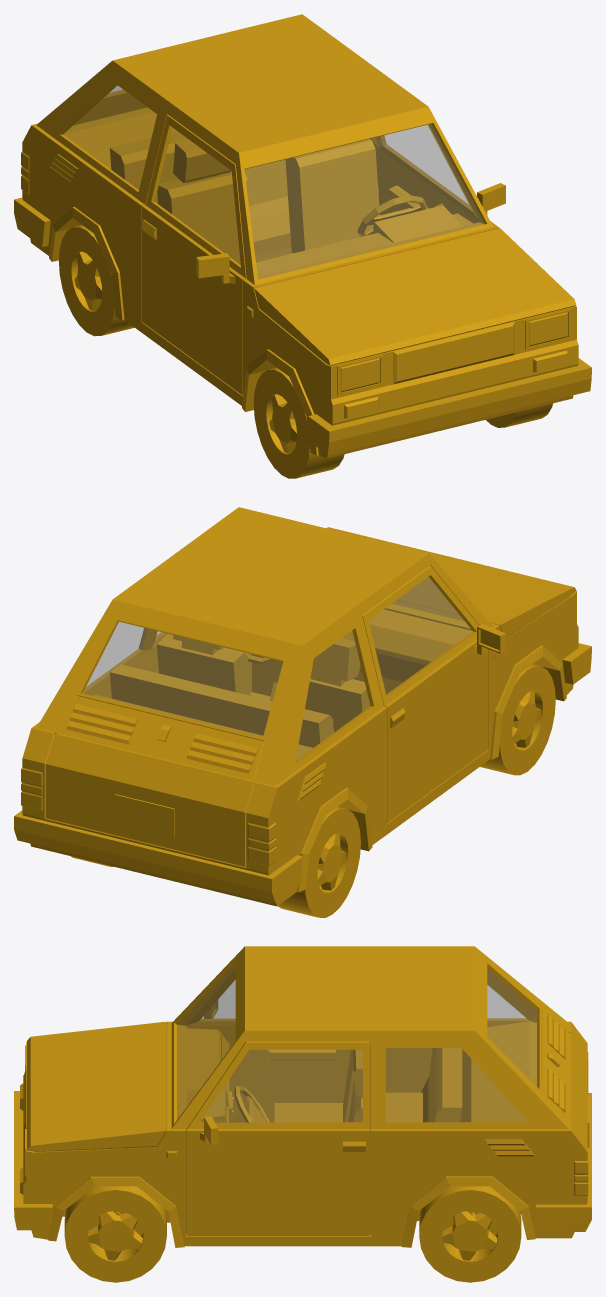
Rendered from YS_Vehicle.glb.
The picture shows the model from 3 angles, top to bottom: view 1: azimuth 30°, elevation 25°; view 2: azimuth 150°, elevation 25°; view 3: azimuth 270°, elevation 25°; orthographic projection. The views are drawn at different scales.
Parts seen in each view (by area): view 1: MICRO_CAR, WINDOWS.003, INTERIOR, DOOR L.007, GLASS.002, WHEEL_R1.001, WHEEL_R2.001, DOOR R.008, GLASS.001, WHEEL_L1.001; view 2: MICRO_CAR, WINDOWS.003, INTERIOR, DOOR L.007, GLASS.002, WHEEL_R2.001, WHEEL_R1.001; view 3: MICRO_CAR, DOOR R.008, WINDOWS.003, INTERIOR, GLASS.001, WHEEL_L1.001, WHEEL_L2.001, DOOR L.007, GLASS.002.
Part boxes in pixels (<box>): MICRO_CAR: <box>14,14,591,458</box>; WINDOWS.003: <box>63,85,484,279</box>; INTERIOR: <box>110,131,472,276</box>; DOOR L.007: <box>141,115,246,395</box>; GLASS.002: <box>155,128,240,264</box>; WHEEL_R1.001: <box>253,367,344,478</box>; WHEEL_R2.001: <box>58,225,134,336</box>; DOOR R.008: <box>375,124,505,223</box>; GLASS.001: <box>381,125,471,210</box>; WHEEL_L1.001: <box>486,403,552,427</box>; MICRO_CAR: <box>14,507,591,906</box>; WINDOWS.003: <box>83,577,463,759</box>; INTERIOR: <box>110,609,472,747</box>; DOOR L.007: <box>362,566,505,822</box>; GLASS.002: <box>369,577,472,694</box>; WHEEL_R2.001: <box>278,806,360,917</box>; WHEEL_R1.001: <box>480,664,555,775</box>; MICRO_CAR: <box>14,946,591,1247</box>; DOOR R.008: <box>186,1041,370,1236</box>; WINDOWS.003: <box>177,963,536,1121</box>; INTERIOR: <box>186,1028,462,1122</box>; GLASS.001: <box>200,1050,362,1122</box>; WHEEL_L1.001: <box>64,1186,166,1282</box>; WHEEL_L2.001: <box>419,1186,521,1282</box>; DOOR L.007: <box>186,969,350,1121</box>; GLASS.002: <box>200,981,234,1020</box>.
Size of the model in its own units: 1.69 by 1.38 by 3.02.
2 materials, 1 textured.
